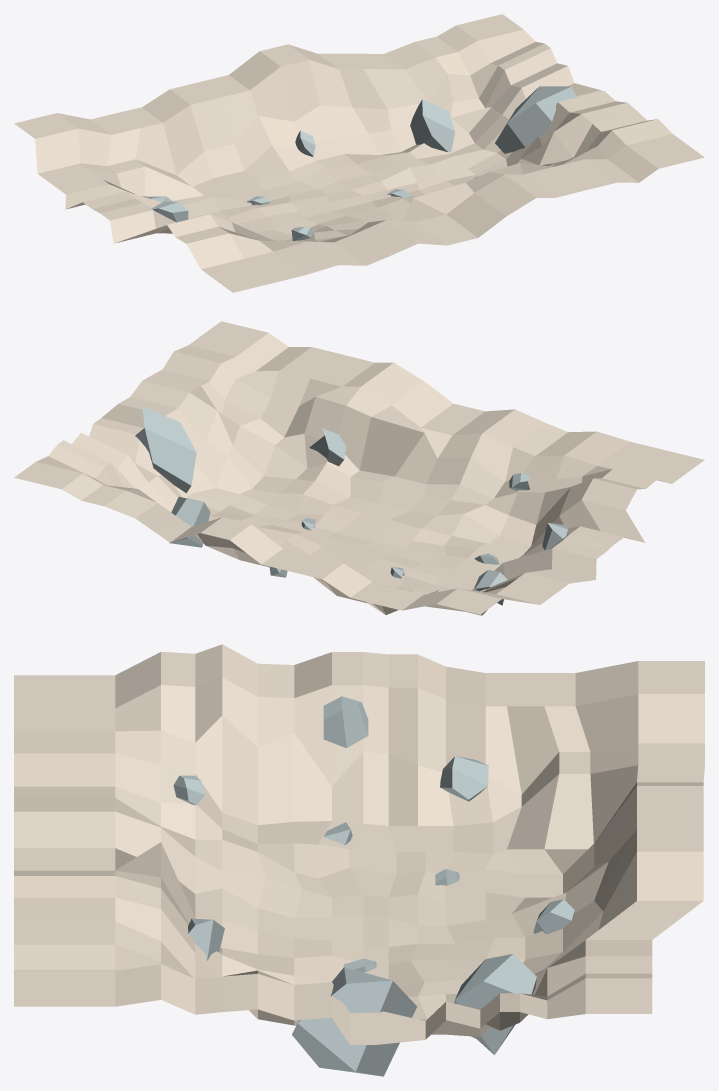
Rendered from 041520groundModel.gltf.
3 renders of one model, top to bottom at view 1: azimuth 30°, elevation 25°; view 2: azimuth 150°, elevation 25°; view 3: azimuth 270°, elevation 25°, orthographic. The views are drawn at different scales.
Parts seen in each view (by area): view 1: Plane, Cube.006, Cube.005, Cube.001; view 2: Plane, Cube.006, Cube.005, Cube.007, Cube.001, Cube.010; view 3: Plane, Cube.006, Cube.005, Cube.001, Cube.010, Cube.007, Cube.004, Cube.002.
Part boxes in pixels (<box>): Plane: <box>14,14,704,292</box>; Cube.006: <box>495,86,576,153</box>; Cube.005: <box>410,99,454,152</box>; Cube.001: <box>151,201,188,222</box>; Plane: <box>14,321,704,615</box>; Cube.006: <box>135,406,196,493</box>; Cube.005: <box>169,496,210,547</box>; Cube.007: <box>309,428,346,466</box>; Cube.001: <box>542,523,568,550</box>; Cube.010: <box>474,570,507,605</box>; Plane: <box>14,644,704,1044</box>; Cube.006: <box>292,967,417,1076</box>; Cube.005: <box>454,954,536,1054</box>; Cube.001: <box>323,696,368,748</box>; Cube.010: <box>440,756,488,801</box>; Cube.007: <box>188,918,224,960</box>; Cube.004: <box>533,899,574,934</box>; Cube.002: <box>173,775,205,805</box>.
Bounding box in the file's own units: 63.62 × 10.31 × 47.02.
